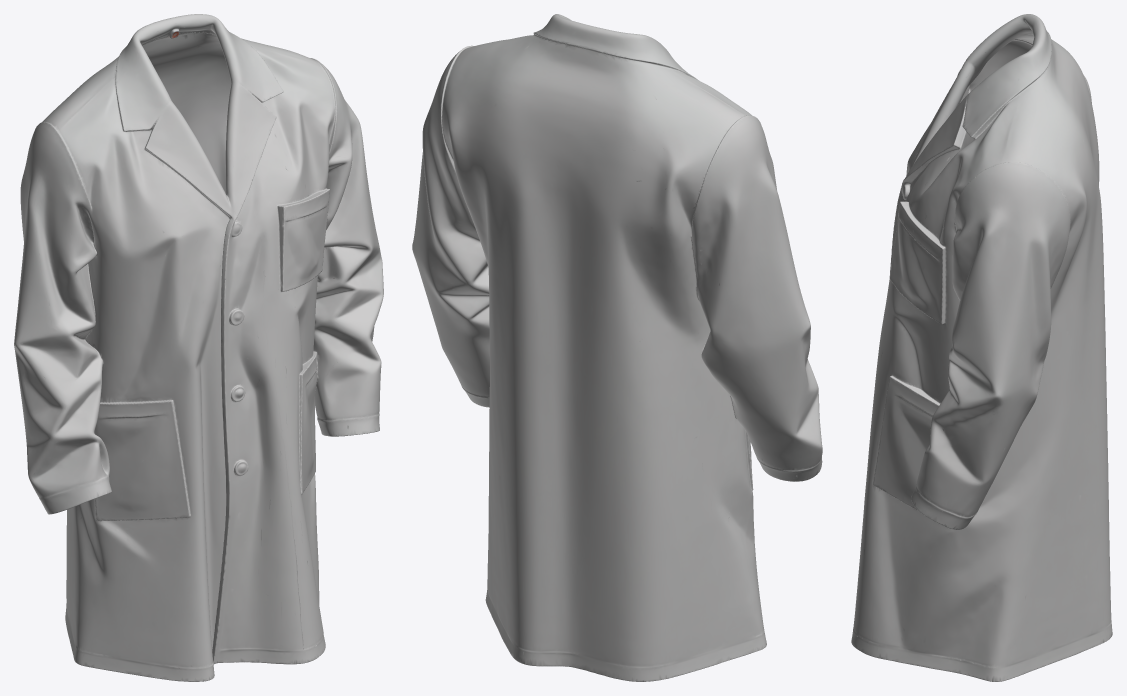
The model's file is white_coat.glb.
3 views of the same model, side by side, from view 1: azimuth 30°, elevation 25°; view 2: azimuth 150°, elevation 25°; view 3: azimuth 270°, elevation 25° (orthographic). The views are drawn at different scales.
Parts seen in each view (by area): view 1: Object_4; view 2: Object_4; view 3: Object_4.
Boxes of the visible parts, left/top/right/bottom form: Object_4: left=14, top=14, right=383, bottom=681; Object_4: left=412, top=14, right=822, bottom=681; Object_4: left=851, top=14, right=1112, bottom=681.
Bounding box in the file's own units: 0.7224 × 1.09 × 0.4368.
Materials: 1 (1 with a texture image).
